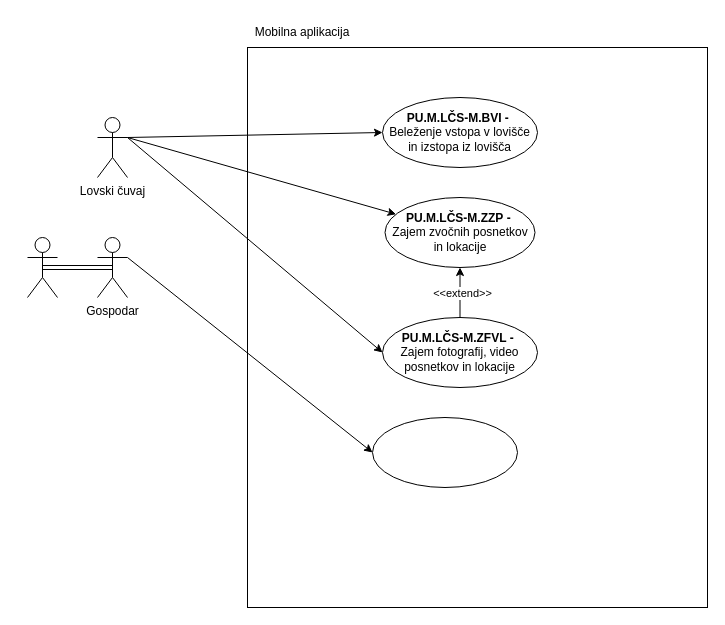
Image size: 725x625. Some labels were removed from this diagram. The centre of each missing label's shape, as x and y in pixels:
PU.M.LČS-M.PPL - Pregled prisotnosti lovcev in čuvajev na lovišču: (x=445, y=452)
Starešina: (x=42, y=267)
